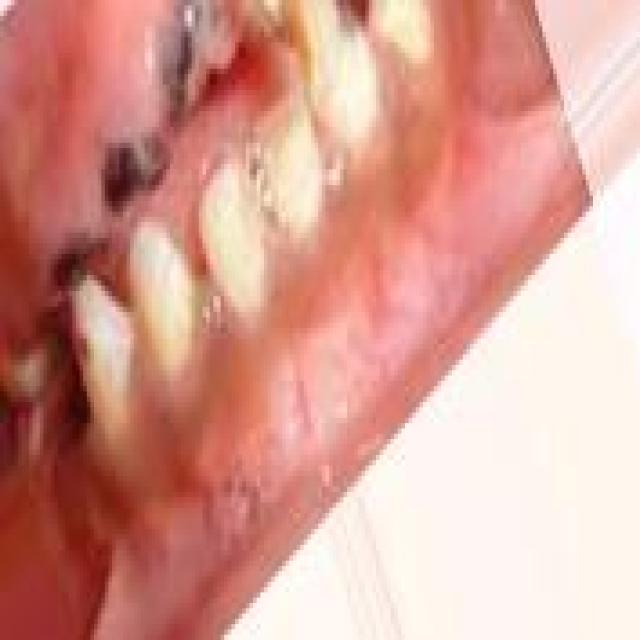caries: (6, 340, 98, 459), (141, 6, 236, 114), (100, 131, 174, 217), (241, 2, 310, 87), (41, 234, 122, 302), (329, 0, 383, 69)
